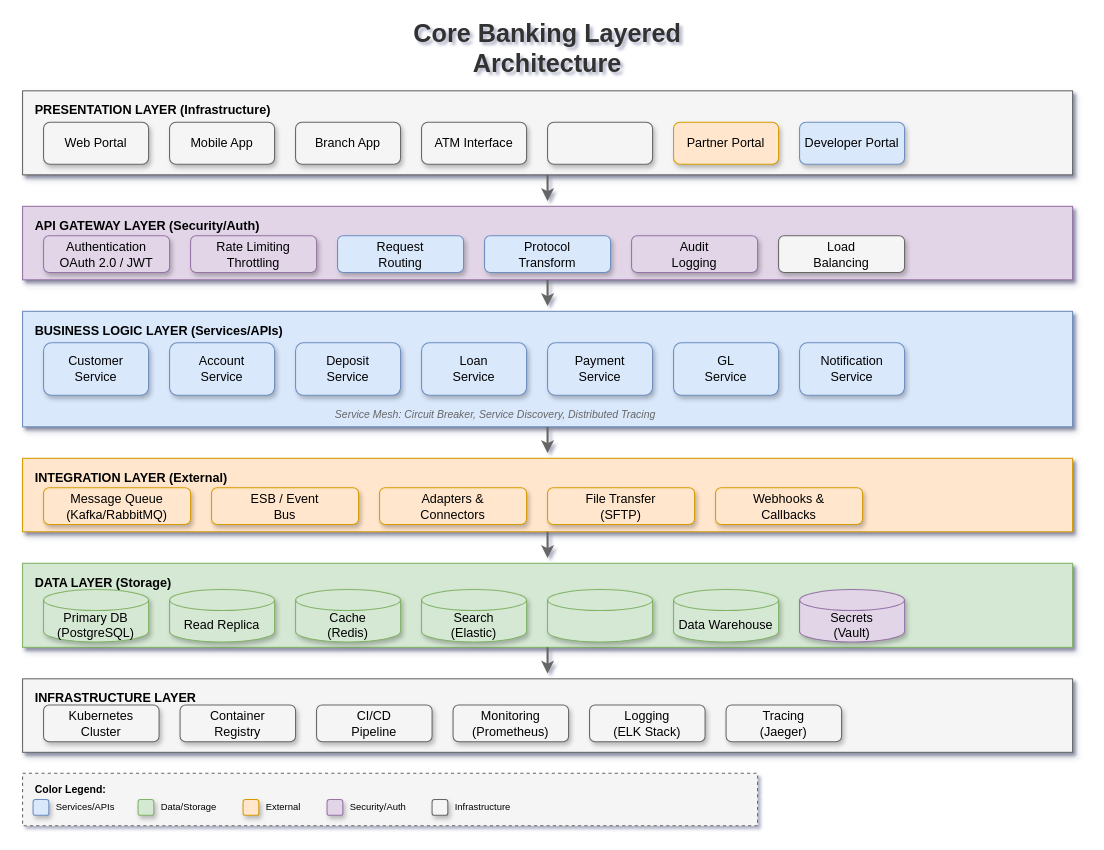
The diagram is 1104 pixels wide and 850 high, and some of its shapes have lost their labels. Each missing label, with the centre of its shape:
"Admin Portal" belongs at point 600,144.
"Time Series (InfluxDB)" belongs at point 600,616.
